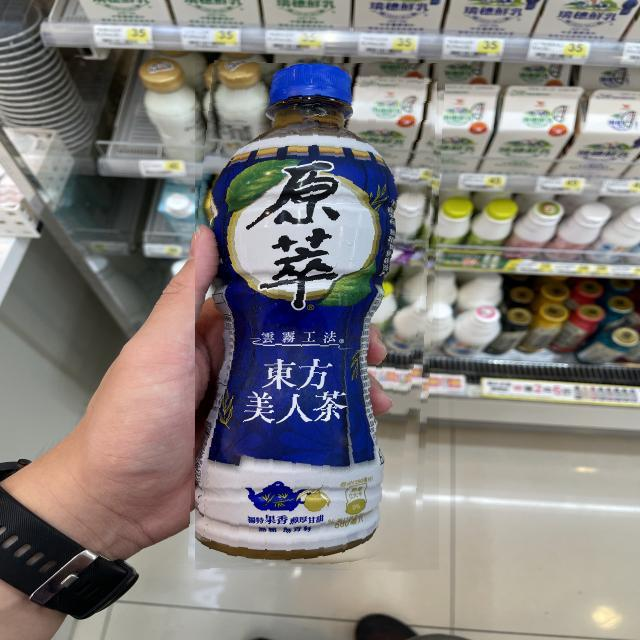YuanTsui_MeiRen: (195, 63, 439, 570)
